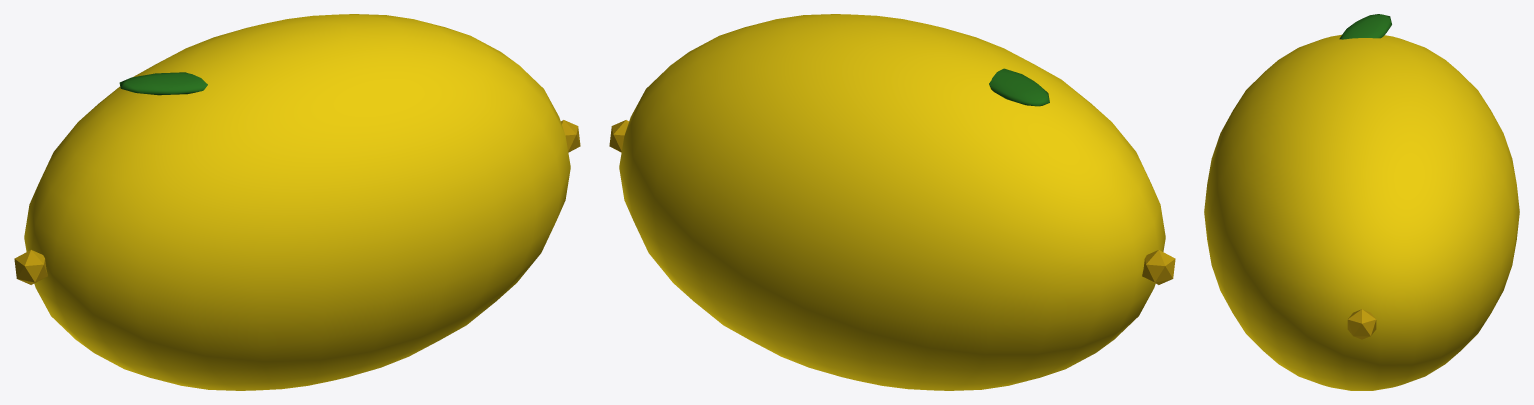
Rendered from lemon.glb.
3 views of the same model, side by side, from view 1: azimuth 30°, elevation 25°; view 2: azimuth 150°, elevation 25°; view 3: azimuth 270°, elevation 25° (orthographic). The views are drawn at different scales.
Parts seen in each view (by area): view 1: lemon; view 2: lemon; view 3: lemon.
Part boxes in pixels (x1,y1,x2,y2): lemon: [14, 14, 580, 390]; lemon: [609, 14, 1175, 390]; lemon: [1204, 14, 1519, 390].
Size of the model in its own units: 1 by 0.5631 by 0.5631.
Materials: 1 (1 with a texture image).
